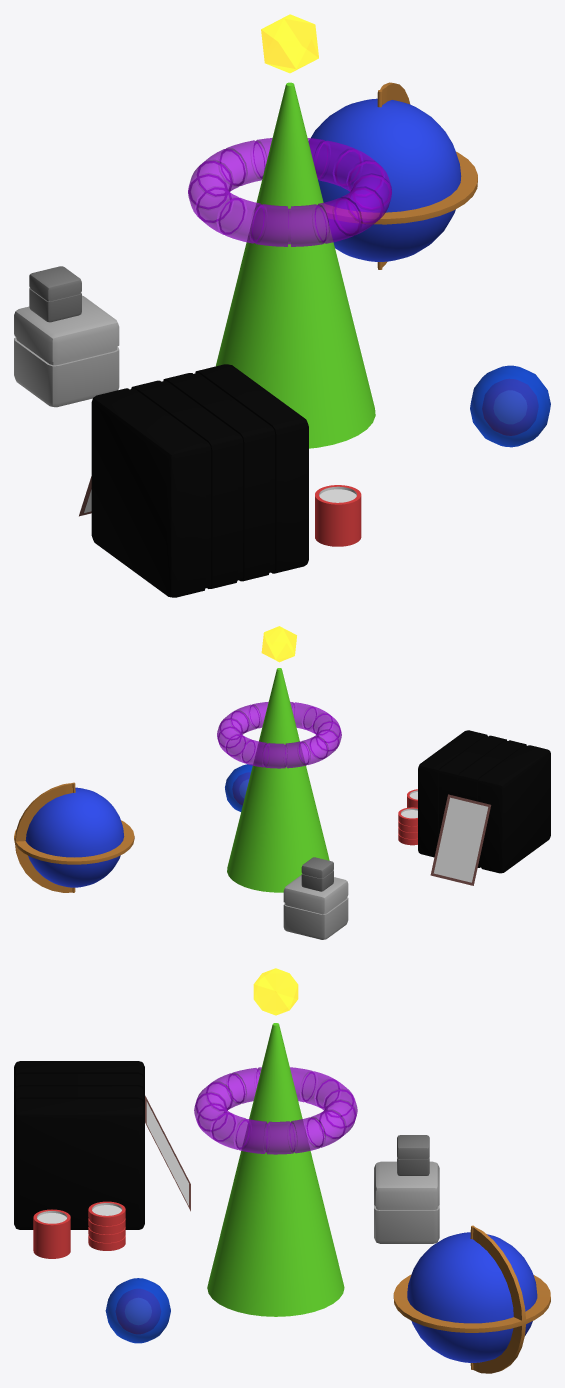
File: mesh_party.glb
3 renders of one model, top to bottom at view 1: azimuth 30°, elevation 25°; view 2: azimuth 150°, elevation 25°; view 3: azimuth 270°, elevation 25°, orthographic. The views are drawn at different scales.
Visible parts, largest first — view 1: Cube, Cylinder, Sphere, Torus, Cube.001, Sphere.001, Cylinder.001, Icosphere, Cube.002, Sphere.002; view 2: Cube, Cylinder, Sphere, Torus, Plane, Cube.001, Icosphere, Cube.002, Sphere.001, Cylinder.002; view 3: Cylinder, Cube, Sphere, Torus, Cube.001, Sphere.001, Cylinder.001, Cylinder.002, Icosphere, Cube.002, Plane, Sphere.002.
Part boxes in pixels (box(x1,y1,x2,y2)): Cube: box(91, 364, 308, 597); Cylinder: box(216, 82, 375, 448); Sphere: box(309, 82, 477, 269); Torus: box(188, 138, 391, 246); Cube.001: box(14, 295, 119, 407); Sphere.001: box(470, 365, 550, 447); Cylinder.001: box(315, 485, 361, 546); Icosphere: box(261, 14, 318, 73); Cube.002: box(29, 266, 81, 322); Sphere.002: box(482, 379, 537, 435); Cube: box(418, 730, 550, 873); Cylinder: box(227, 668, 329, 892); Sphere: box(14, 782, 134, 892); Torus: box(217, 701, 341, 768); Plane: box(430, 794, 491, 885); Cube.001: box(283, 875, 348, 939); Icosphere: box(261, 626, 296, 662); Cube.002: box(301, 857, 333, 891); Sphere.001: box(225, 764, 252, 811); Cylinder.002: box(398, 807, 417, 845); Cylinder: box(207, 1023, 344, 1316); Cube: box(14, 1061, 144, 1229); Sphere: box(393, 1225, 550, 1373); Torus: box(194, 1067, 357, 1154); Cube.001: box(374, 1161, 439, 1243); Sphere.001: box(105, 1278, 170, 1343); Cylinder.001: box(33, 1209, 70, 1258); Cylinder.002: box(88, 1201, 125, 1250); Icosphere: box(253, 968, 298, 1015); Cube.002: box(397, 1135, 429, 1175); Plane: box(145, 1095, 190, 1211); Sphere.002: box(116, 1289, 160, 1333).
Bounding box in the file's own units: 8.2 × 5.39 × 8.2.
